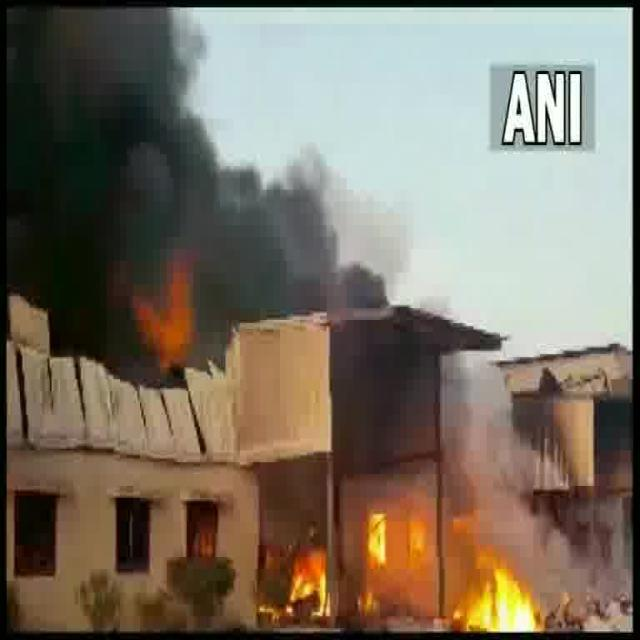Fire: (272, 510, 532, 627)
Smoke: (2, 85, 206, 261)
